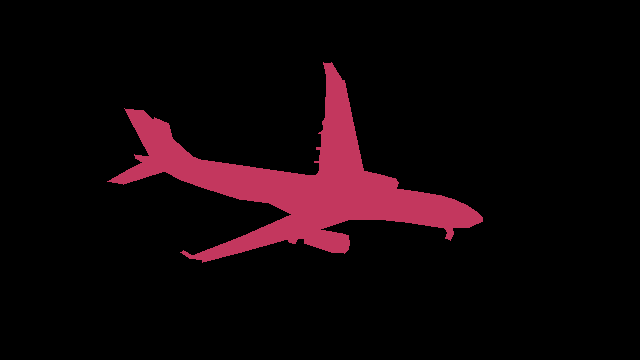Airplane: (107, 62, 482, 262)
